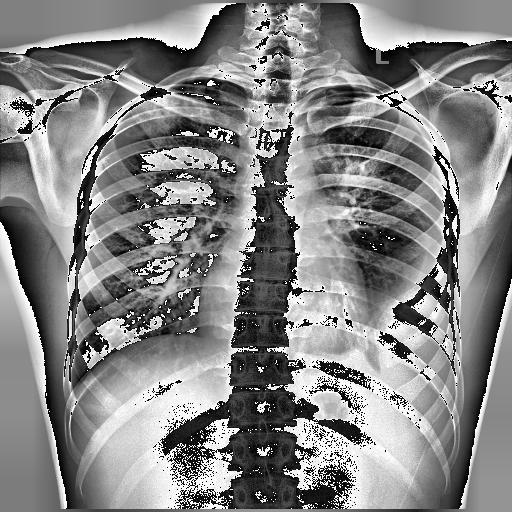10- Pleural effusion: (336, 224, 458, 406), (350, 213, 460, 382), (352, 228, 458, 366)
11- Pleural thickening: (326, 86, 396, 104), (178, 77, 214, 84)
13- Pulmonary fibrosis: (125, 88, 213, 136)
6- Infiltration: (122, 92, 176, 132)
8- Nodule-Mass: (122, 92, 176, 132)
